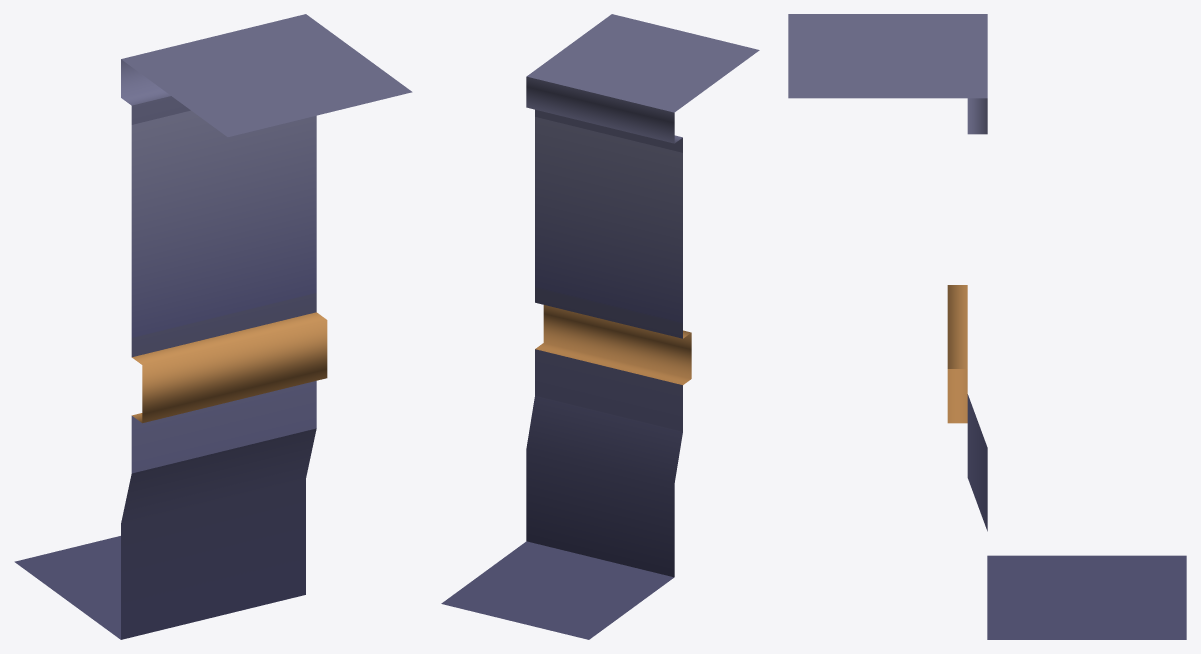
The model's file is structure-wall.glb.
3 views of the same model, side by side, from view 1: azimuth 30°, elevation 25°; view 2: azimuth 150°, elevation 25°; view 3: azimuth 270°, elevation 25° (orthographic). The views are drawn at different scales.
Visible parts, largest first — view 1: structure-wall; view 2: structure-wall; view 3: structure-wall.
Boxes of the visible parts, <box> form: structure-wall: <box>14,14,412,639</box>; structure-wall: <box>441,14,759,639</box>; structure-wall: <box>788,14,1186,639</box>.
Size of the model in its own units: 1 by 3 by 2.
